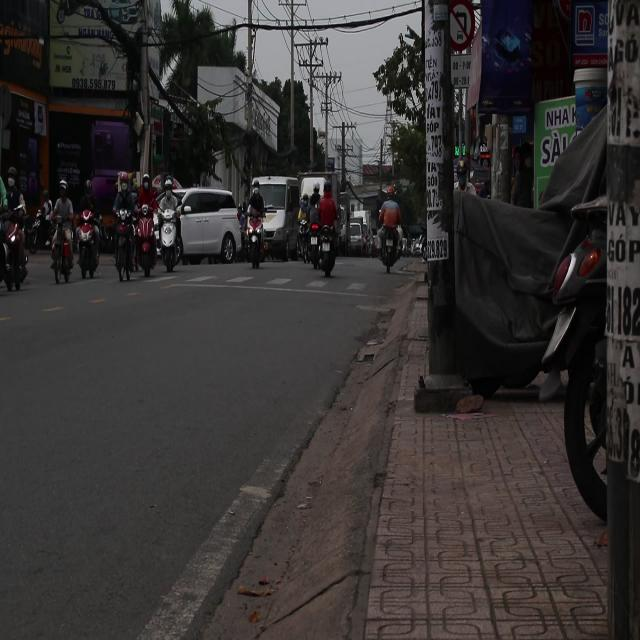car: (174, 187, 245, 267), (343, 218, 367, 256)
motorbike: (111, 188, 140, 292), (1, 211, 30, 292), (130, 205, 160, 282), (313, 210, 349, 270), (48, 213, 76, 286), (73, 212, 101, 281), (241, 199, 269, 268), (157, 199, 179, 280), (377, 223, 405, 273), (308, 202, 322, 268)
truck: (249, 175, 303, 262)
